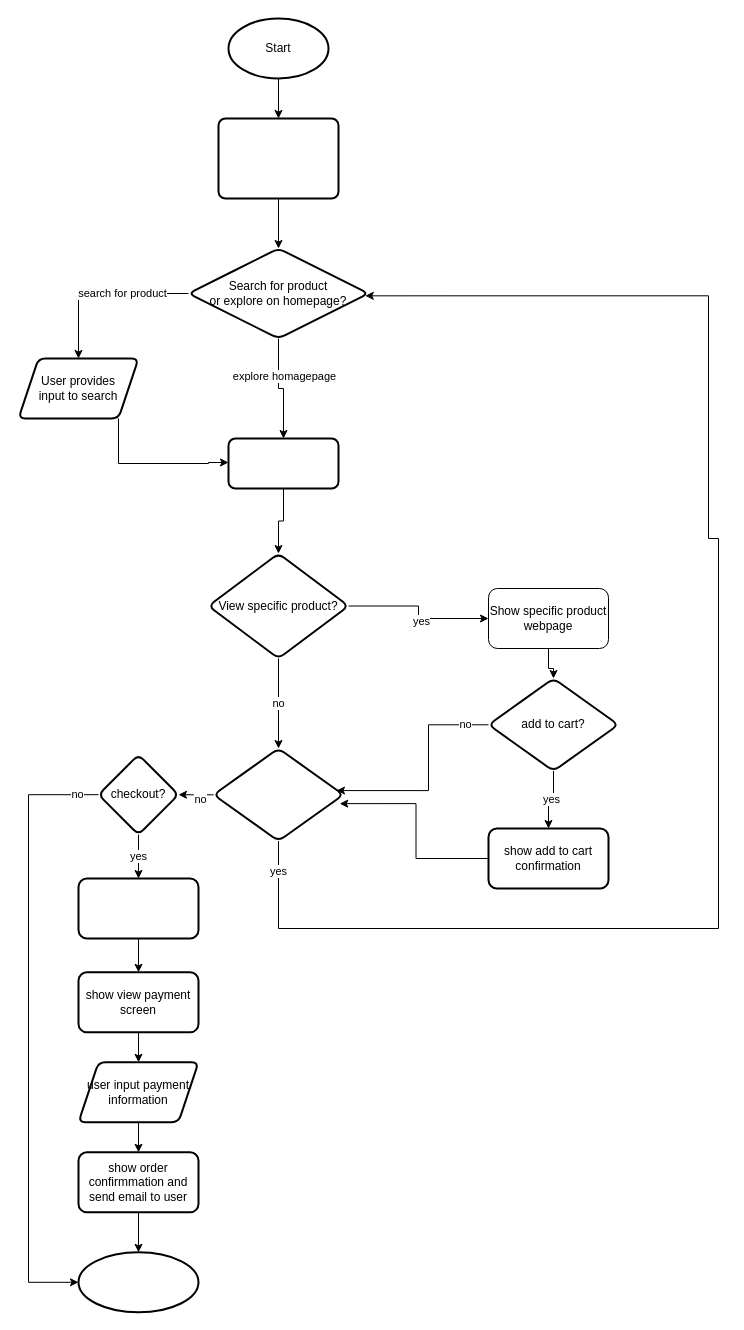
The diagram is 744 pixels wide and 1330 high, and some of its shapes have lost their labels. Here are the shapes that lost their labels. From the top down, the centre of each, then its label:
pixel 278 158: User Enters Site
pixel 283 463: User looks over products
pixel 278 794: Continue shopping?
pixel 138 908: show view cart screen
pixel 138 1282: user leaves website
